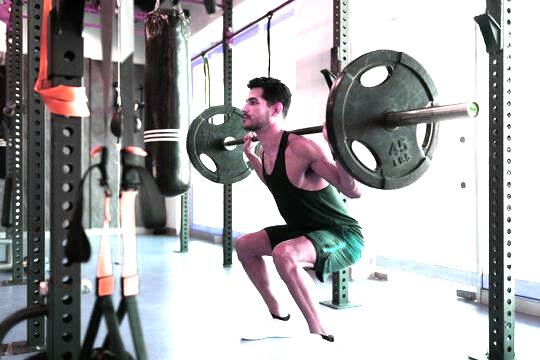Barbell: (467, 100, 482, 121)
